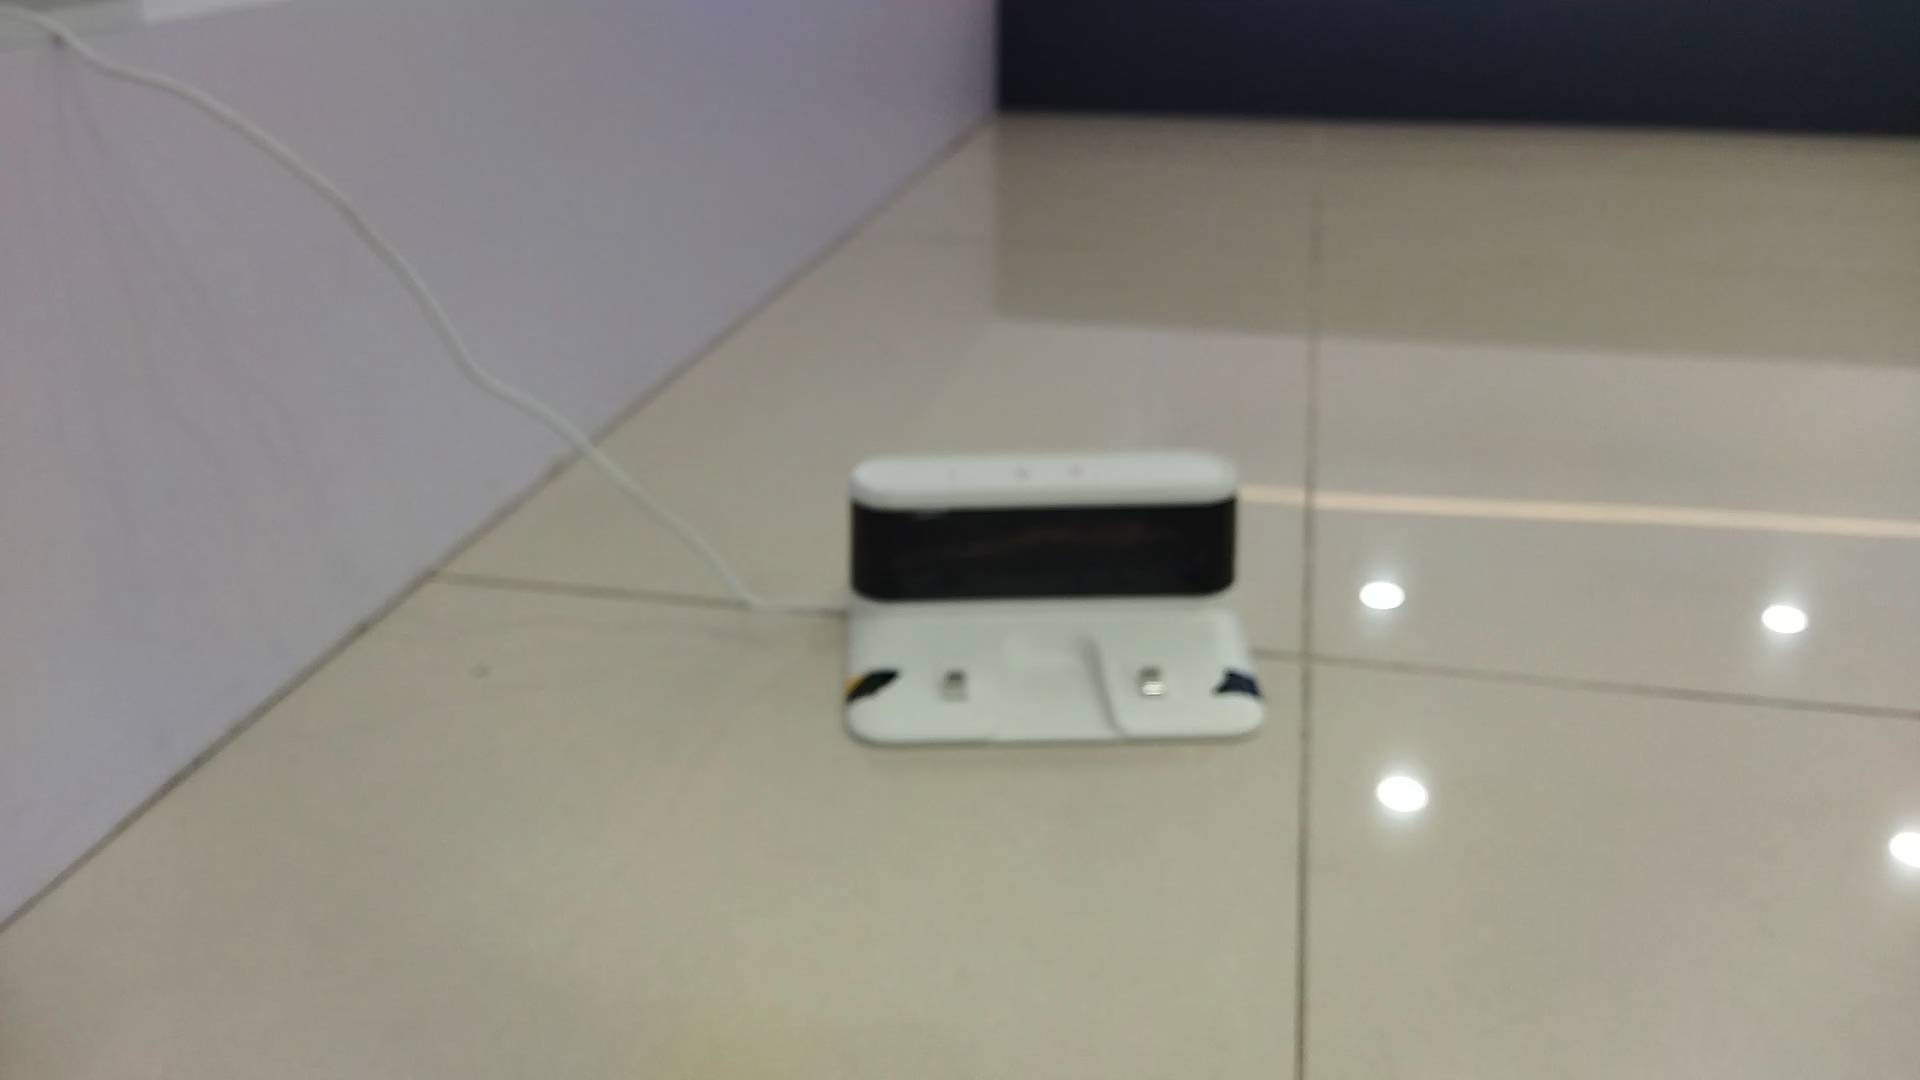recharge seat: (841, 448, 1269, 745)
